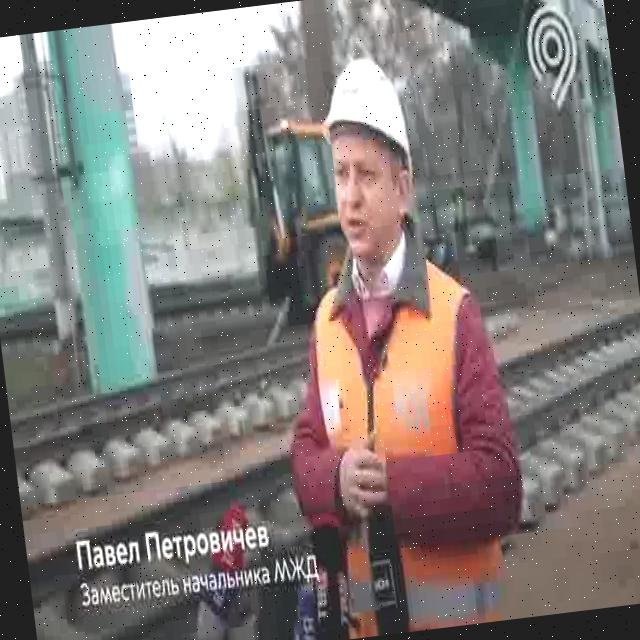helmet: (312, 52, 413, 187)
vest: (303, 240, 513, 638)
